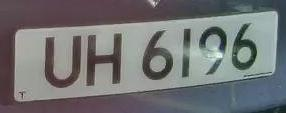1: (175, 22, 198, 81)
6: (137, 22, 178, 88), (227, 17, 262, 72)
9: (193, 20, 230, 78)
H: (82, 24, 128, 93)
U: (41, 28, 86, 91)
